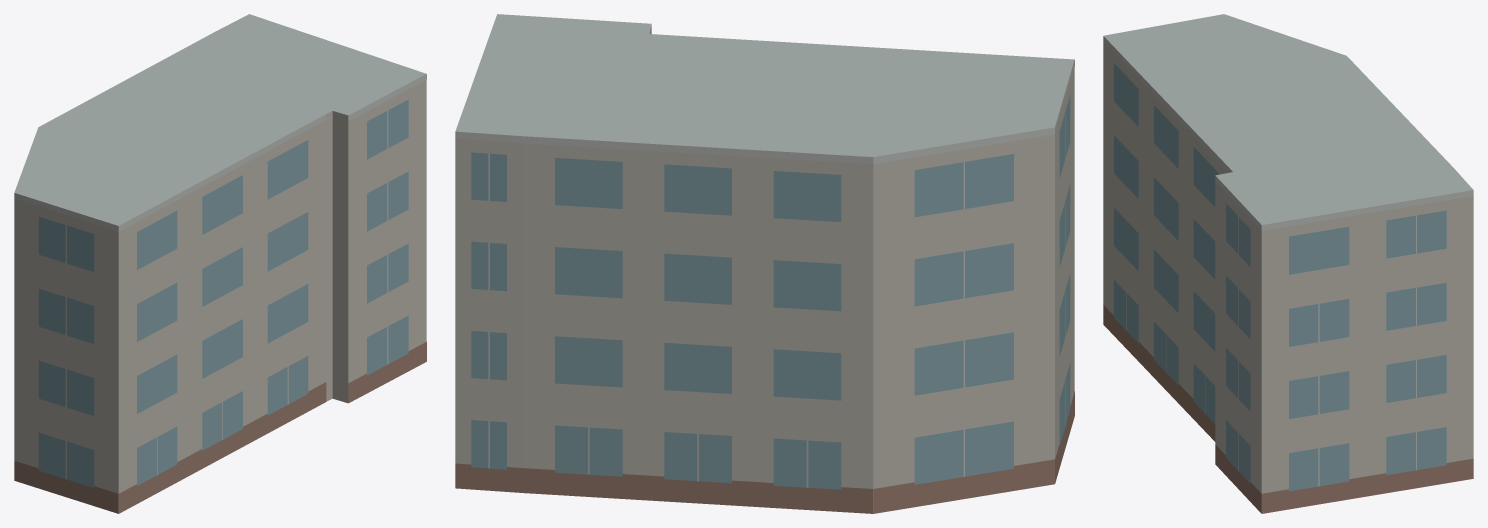
File: survey-upis-32984348.glb
3 renders of one model, left to right at view 1: azimuth 30°, elevation 25°; view 2: azimuth 150°, elevation 25°; view 3: azimuth 270°, elevation 25°, orthographic. The views are drawn at different scales.
Visible parts, largest first — view 1: survey-upis-32984348.tmp; view 2: survey-upis-32984348.tmp; view 3: survey-upis-32984348.tmp.
Boxes of the visible parts, bbox=[...] form: survey-upis-32984348.tmp: bbox=[14, 14, 426, 513]; survey-upis-32984348.tmp: bbox=[455, 14, 1074, 513]; survey-upis-32984348.tmp: bbox=[1103, 14, 1473, 513].
Size of the model in its own units: 19.14 by 12.2 by 14.19.
